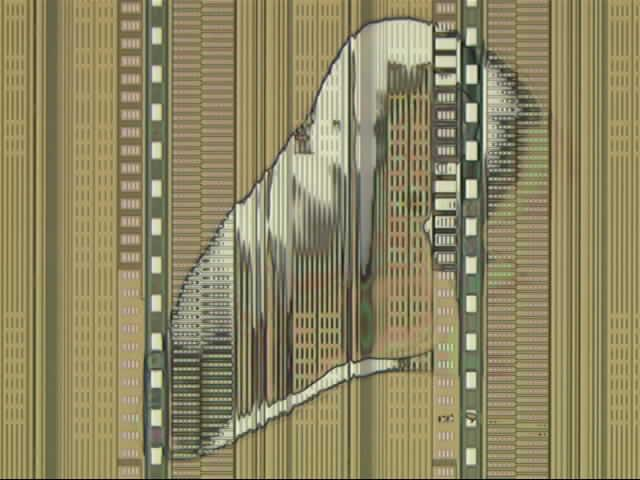COATING BAD: (140, 17, 545, 467)
